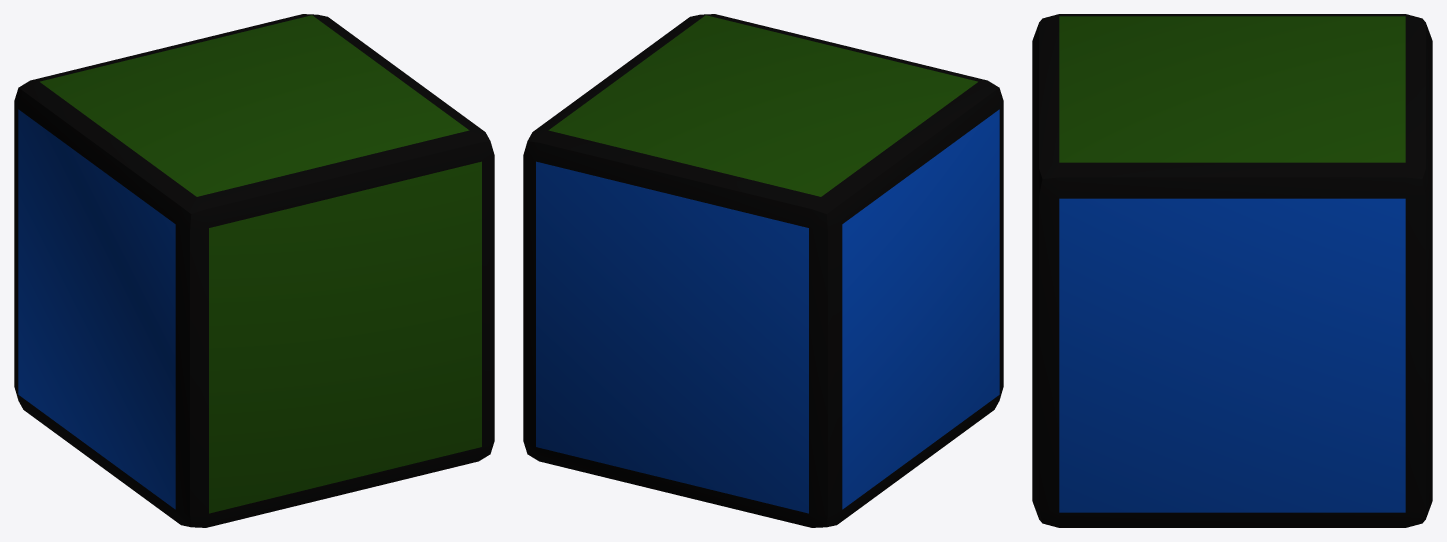
File: FireWaterEnnemyDice 2.FBX
The picture shows the model from 3 angles, left to right: view 1: azimuth 30°, elevation 25°; view 2: azimuth 150°, elevation 25°; view 3: azimuth 270°, elevation 25°; orthographic projection. The views are drawn at different scales.
Parts seen in each view (by area): view 1: Box001; view 2: Box001; view 3: Box001.
Boxes of the visible parts, left/top/right/bottom form: Box001: left=14, top=14, right=494, bottom=527; Box001: left=523, top=14, right=1003, bottom=527; Box001: left=1032, top=14, right=1432, bottom=527.
Size of the model in its own units: 80 by 80 by 80.
